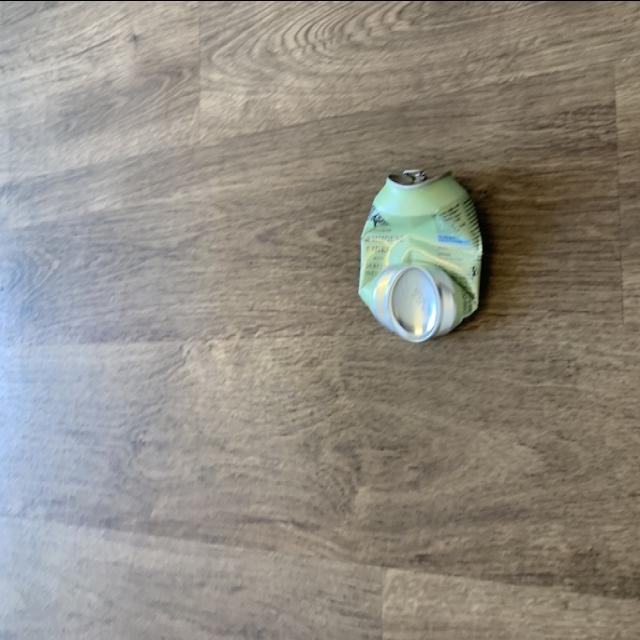litter: (353, 123, 488, 365)
